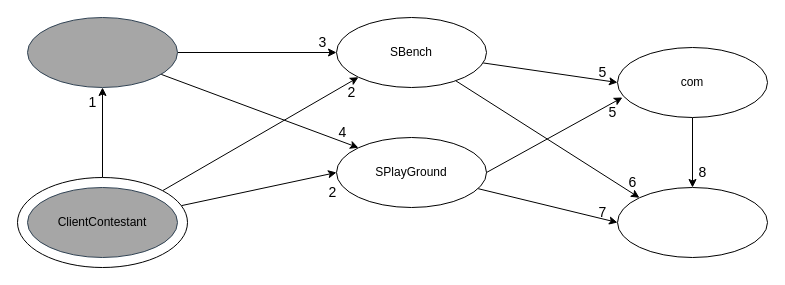
This 785x285 diagram has some shape labels left out. The shapes that lost their labels are listed below. From the top down, each one's box as (x1, y1, x2, y2) in pixels, then its label:
(26, 16, 178, 88): Contestant[i] i=0,1,...,4
(616, 186, 768, 258): inMessage outMessage
